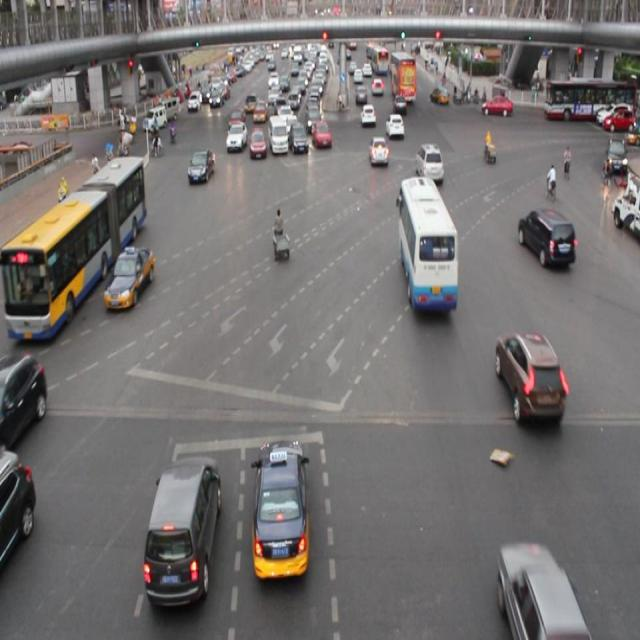car: (496, 543, 586, 640), (252, 440, 310, 579), (495, 332, 564, 422), (1, 352, 48, 441), (0, 451, 32, 566), (517, 207, 573, 268), (104, 244, 154, 311), (415, 144, 446, 184), (187, 148, 214, 186), (288, 120, 309, 155), (310, 118, 331, 150), (368, 135, 388, 167), (224, 123, 247, 150), (248, 128, 266, 160), (385, 112, 404, 138), (359, 102, 376, 128)
truck: (144, 455, 221, 606), (268, 114, 288, 154)
van: (1, 156, 142, 342), (398, 175, 458, 312)
